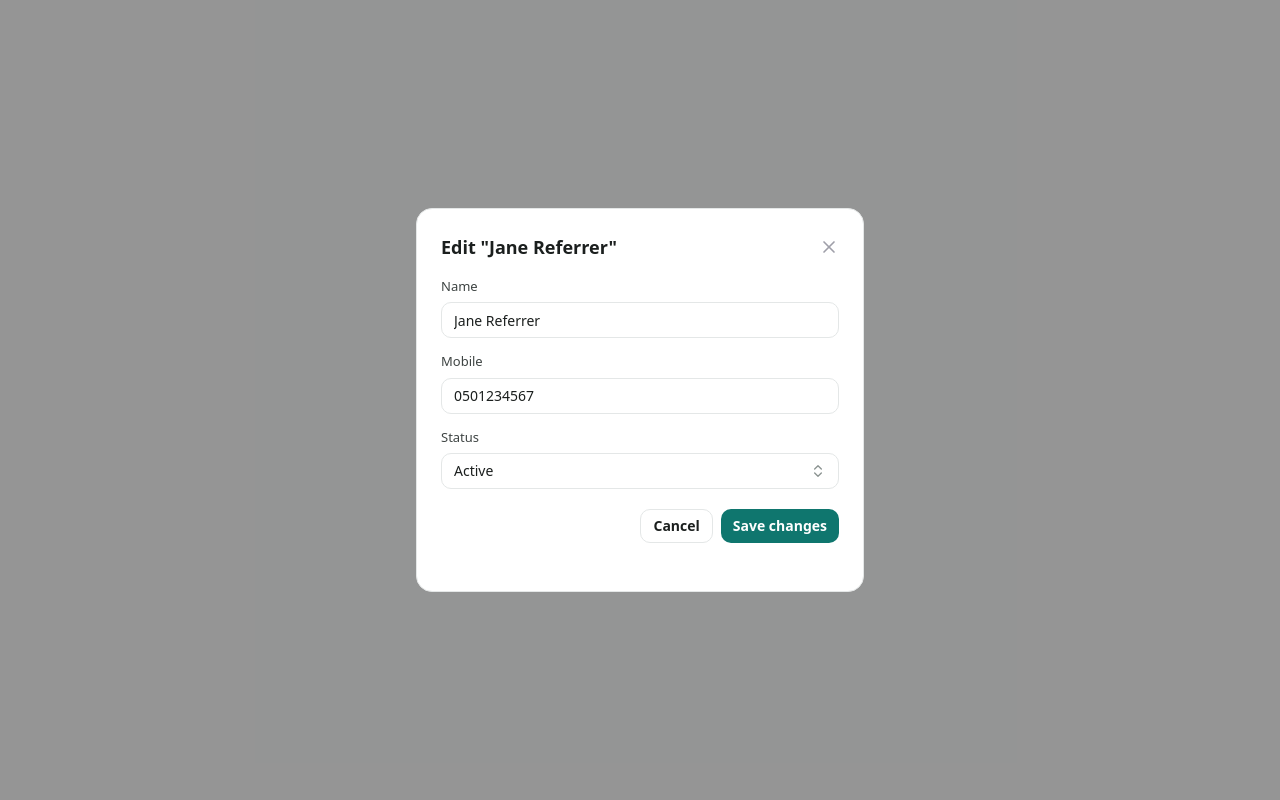
Test: AffiliateFormModal — Status picker › opens and selects a new status
Click the dropdown at (474, 471), box x1=441 y1=453 x2=839 y2=489
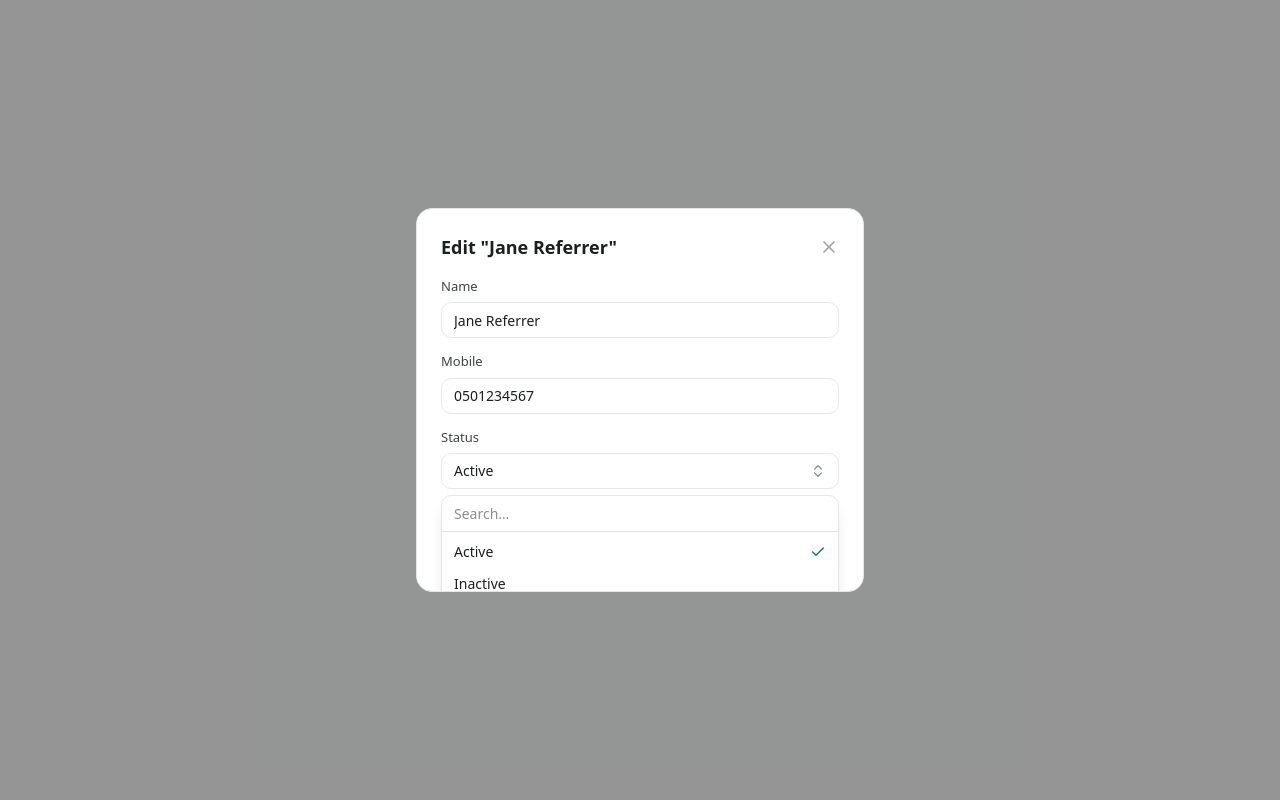
Click the option "Inactive" at (480, 584), box x1=442 y1=568 x2=838 y2=600
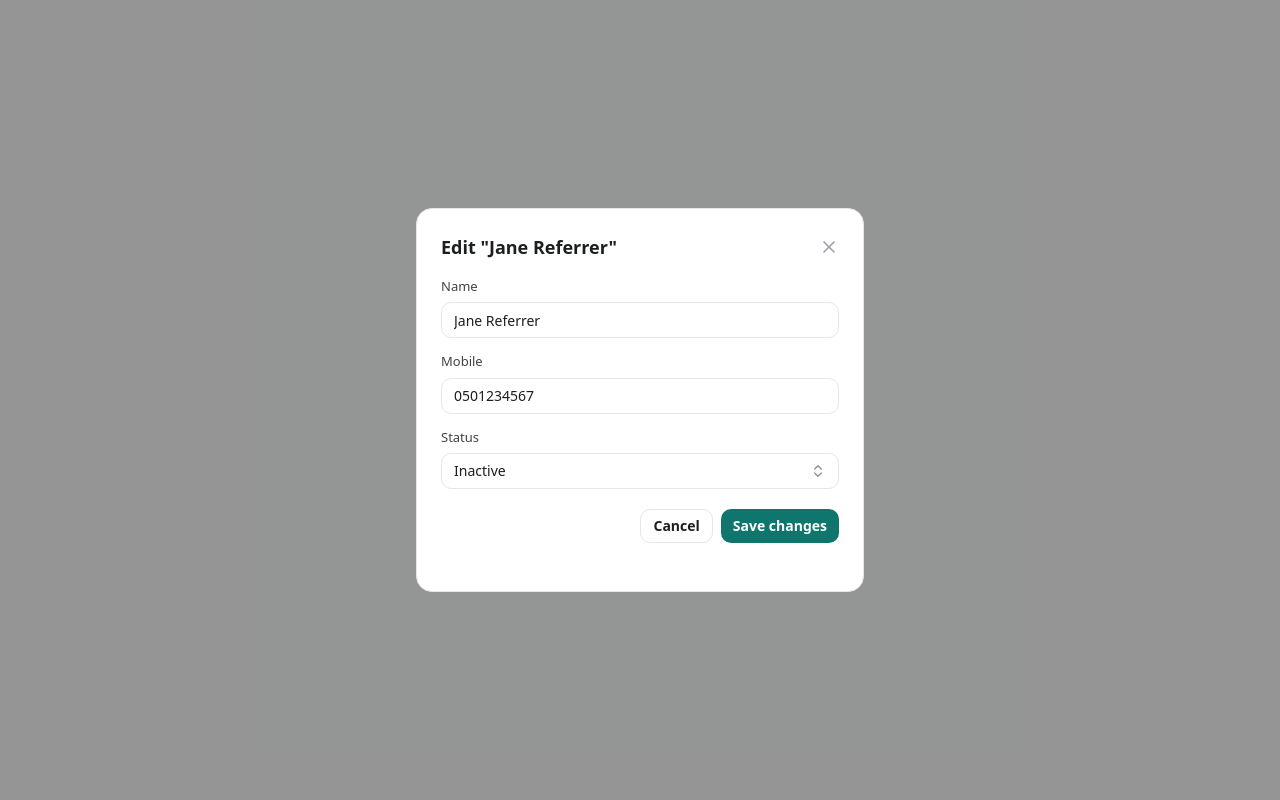
Now the dropdown reads "Inactive", box x1=441 y1=453 x2=839 y2=489
